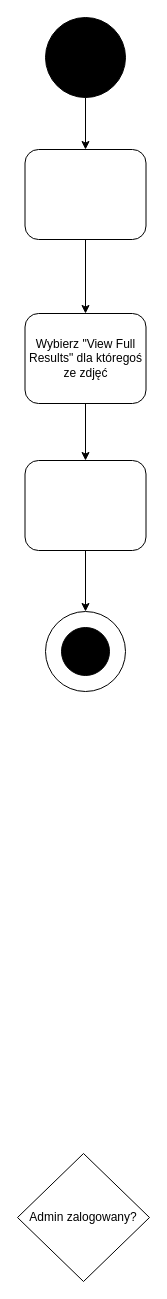
Image size: 167x1299. Some labels were removed from this diagram. Here are the shapes that lost their labels. From the top down, the centre of each, then its label:
the point at 85,194: Profil użytkownika
the point at 85,505: Wynik obrazu
